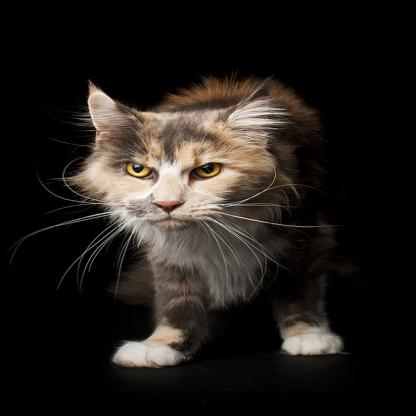cat: (72, 76, 346, 371)
